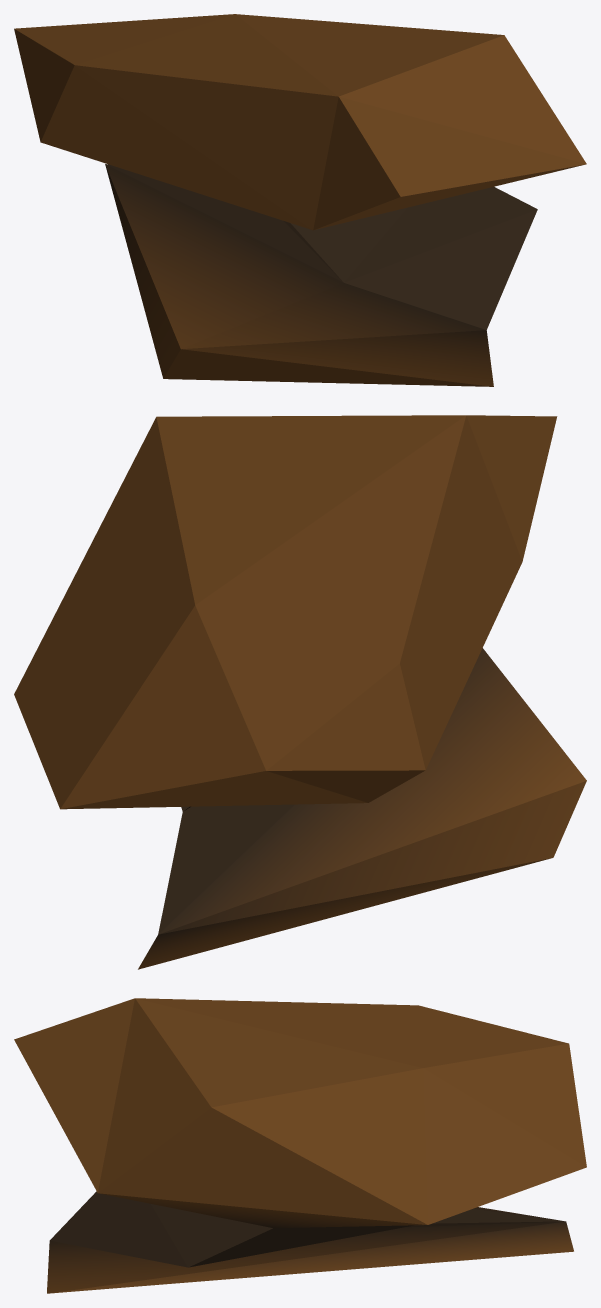
Rendered from c_rock_desert_ab.fbx.
3 views of the same model, one above another, from view 1: azimuth 30°, elevation 25°; view 2: azimuth 150°, elevation 25°; view 3: azimuth 270°, elevation 25° (orthographic). The views are drawn at different scales.
Parts seen in each view (by area): view 1: c_rock_desert_ab; view 2: c_rock_desert_ab; view 3: c_rock_desert_ab.
Boxes of the visible parts, x1=… form: c_rock_desert_ab: x1=14, y1=14, x2=586, y2=386; c_rock_desert_ab: x1=14, y1=415, x2=586, y2=969; c_rock_desert_ab: x1=14, y1=998, x2=586, y2=1293.
Bounding box in the file's own units: 1.32 × 1.01 × 2.03.
